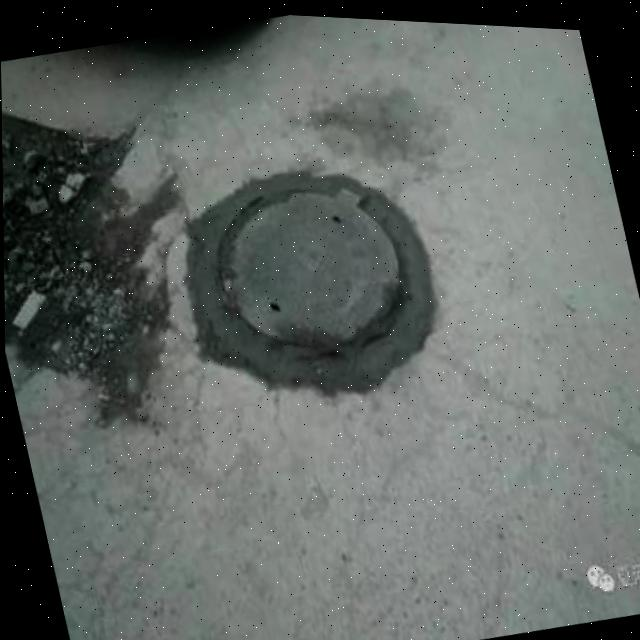manhole: (154, 125, 450, 418)
